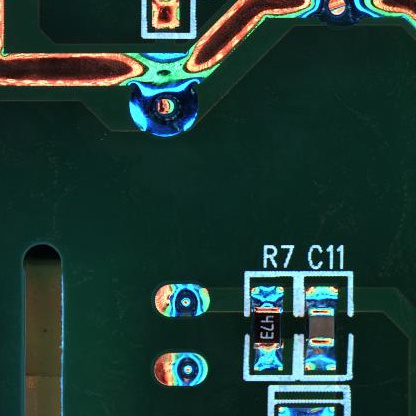spot: (129, 72, 198, 139), (152, 283, 211, 319), (153, 351, 210, 387)
